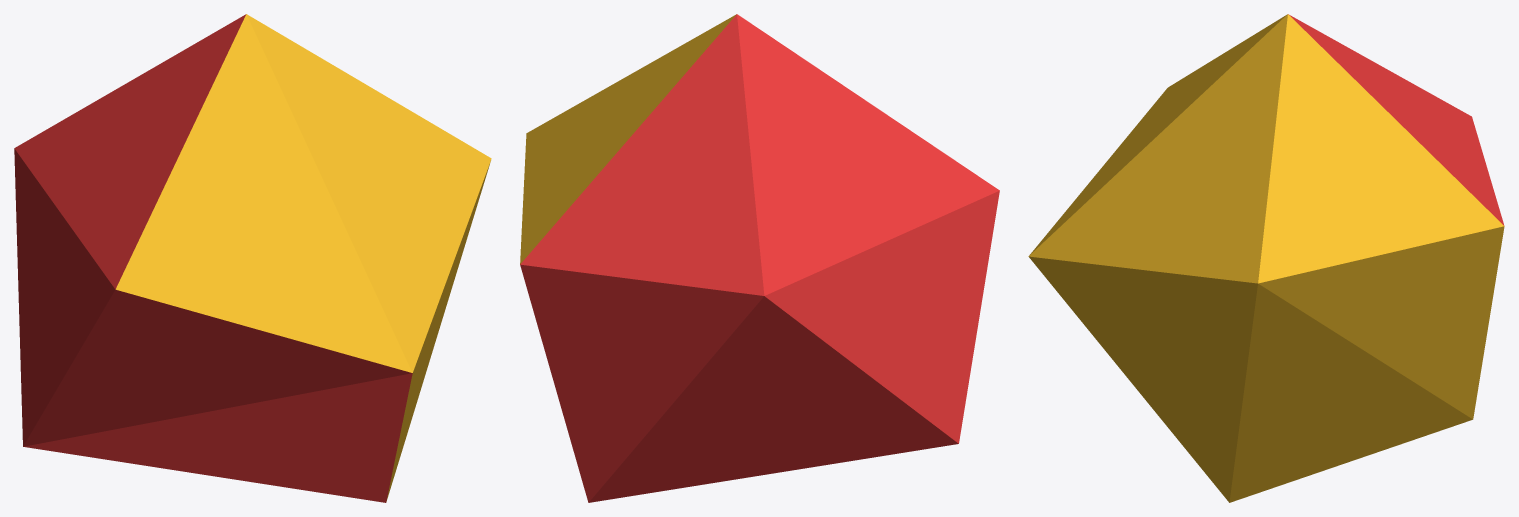
File: firecoal.fbx
The picture shows the model from 3 angles, left to right: view 1: azimuth 30°, elevation 25°; view 2: azimuth 150°, elevation 25°; view 3: azimuth 270°, elevation 25°; orthographic projection. The views are drawn at different scales.
Parts seen in each view (by area): view 1: Icosphere.002; view 2: Icosphere.002; view 3: Icosphere.002.
Part boxes in pixels (box(x1,y1,x2,y2)): Icosphere.002: box(14, 14, 491, 502); Icosphere.002: box(520, 14, 999, 502); Icosphere.002: box(1028, 14, 1504, 502).
Bounding box in the file's own units: 161 × 167 × 163.
